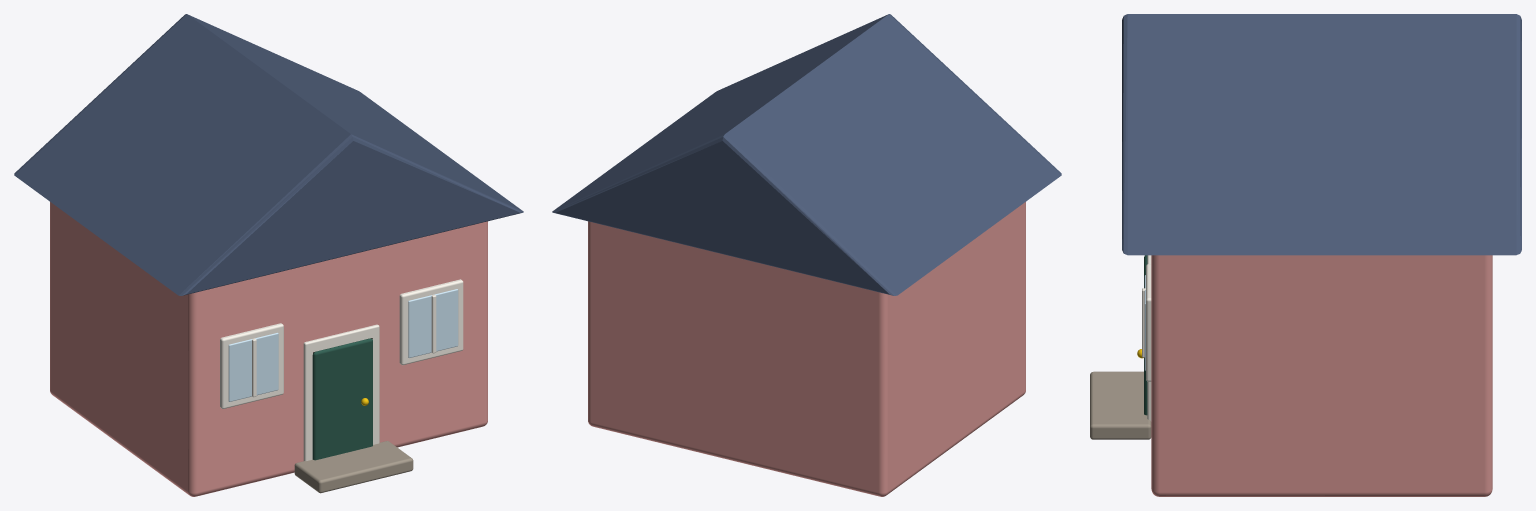
The model's file is maison_rose.glb.
3 renders of one model, left to right at view 1: azimuth 30°, elevation 25°; view 2: azimuth 150°, elevation 25°; view 3: azimuth 270°, elevation 25°, orthographic. The views are drawn at different scales.
Visible parts, largest first — view 1: house; view 2: house; view 3: house.
Part boxes in pixels (x1=…): house: x1=14, y1=14, x2=523, y2=496; house: x1=552, y1=14, x2=1061, y2=496; house: x1=1090, y1=14, x2=1521, y2=496.
Size of the model in its own units: 6.92 by 6.46 by 6.33.
